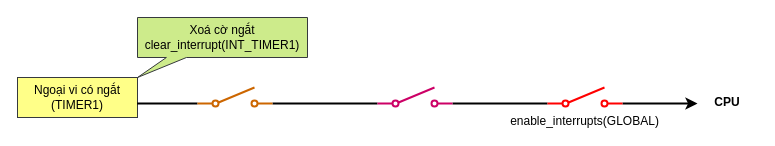
Image size: 775x146. Some labels were removed from this diagram. Each missing label, with the centre of its shape:
"enable_interrupts(INT_TIMER1)" goes at point (234, 97).
"enable_interrupts(PERIPH)" goes at point (414, 97).
